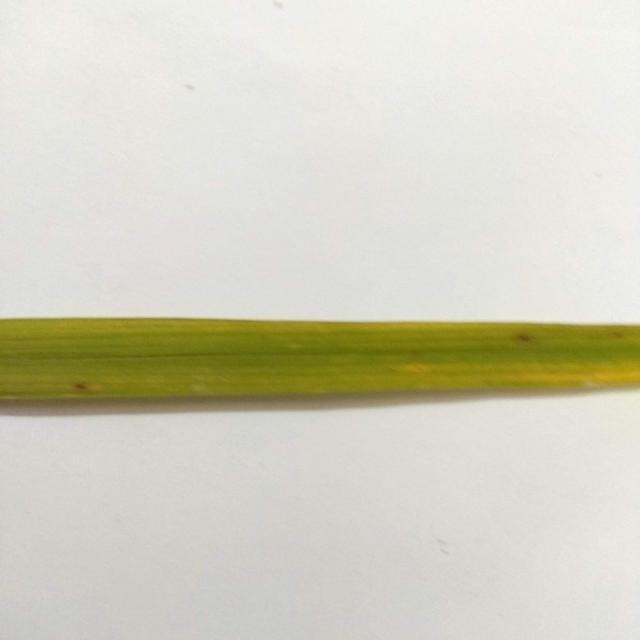Brown spot: (0, 292, 640, 421)
